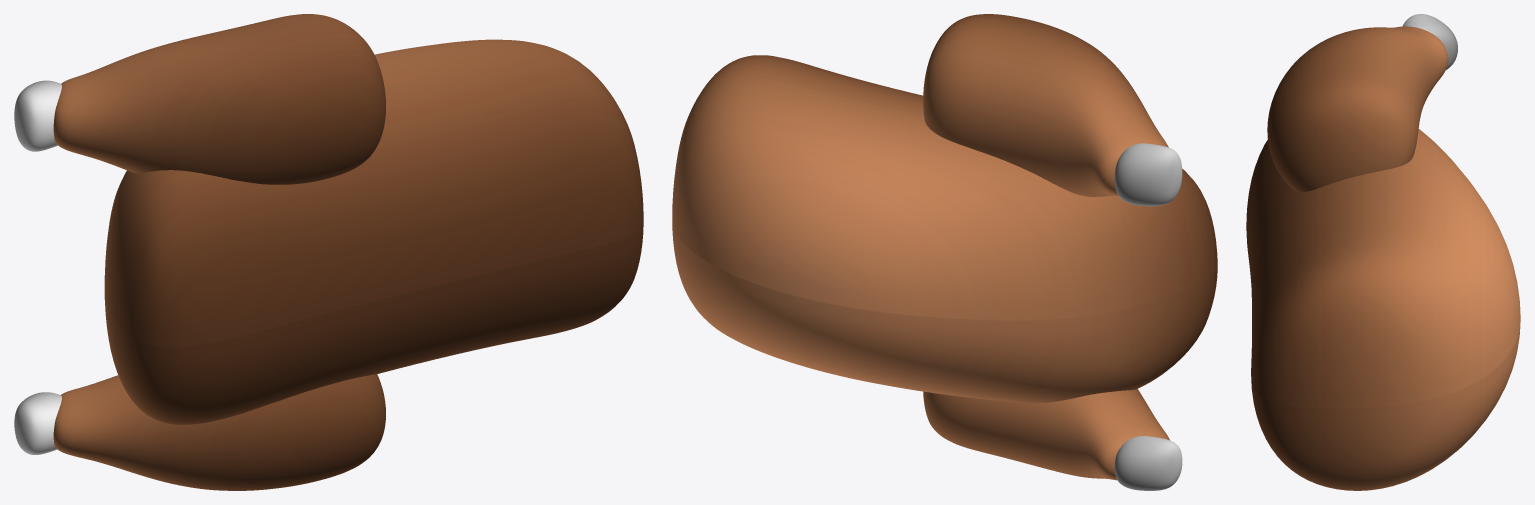
The model's file is HH_CookedChicken.fbx.
3 renders of one model, left to right at view 1: azimuth 30°, elevation 25°; view 2: azimuth 150°, elevation 25°; view 3: azimuth 270°, elevation 25°, orthographic. The views are drawn at different scales.
Visible parts, largest first — view 1: Top.001, Bottom.001; view 2: Top.001, Bottom.001; view 3: Top.001, Bottom.001.
Boxes of the visible parts, x1,y1,x2,y2 form: Top.001: (14,14,643,347); Bottom.001: (14,223,643,490); Top.001: (672,14,1217,320); Bottom.001: (672,222,1217,490); Top.001: (1246,14,1520,408); Bottom.001: (1246,235,1520,490).
Bounding box in the file's own units: 120 × 92.16 × 60.
Materials: 1 (1 with a texture image).
